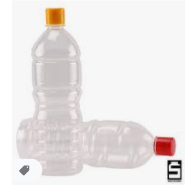Bottle: (18, 118, 178, 170), (33, 8, 83, 173)
